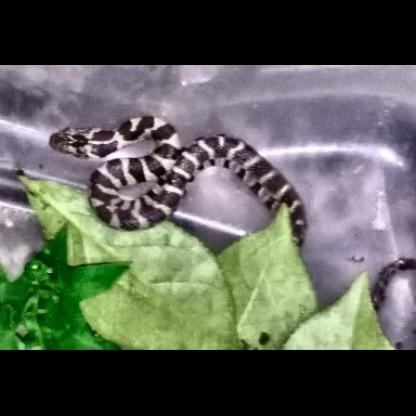Snake: (48, 113, 308, 231)
